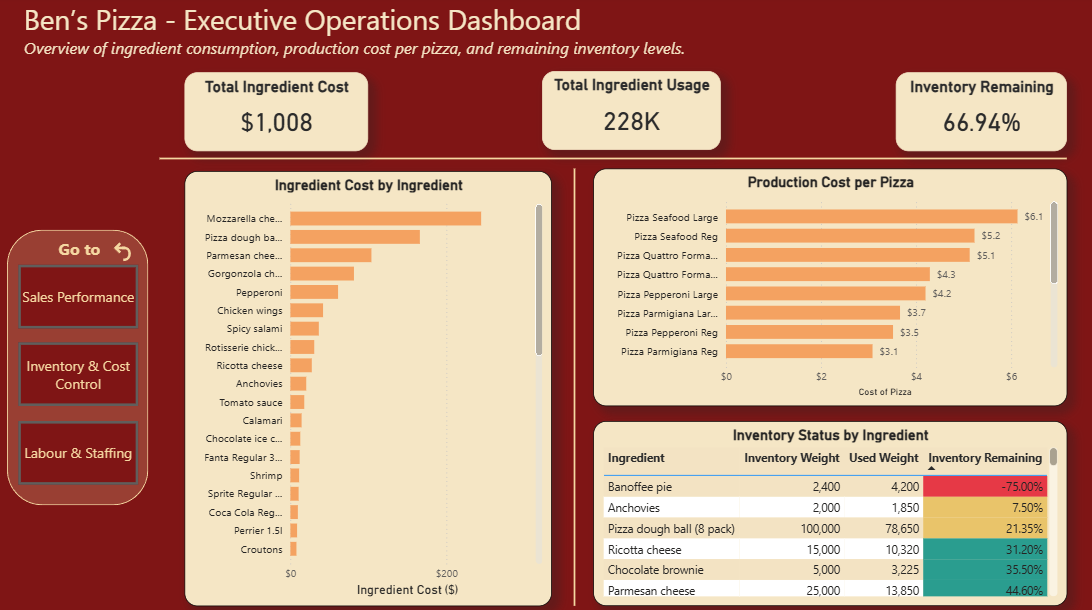

The page's visual inventory and layout, read from the dashboard file:
{"tool":"powerbi","page":{"name":"Inventory & Cost Control","canvas":[1280,720],"ordinal":2},"visuals":[{"type":"clusteredBarChart","title":"Ingredient Cost by Ingredient","fields":{"Category":["stock1.ing_name"],"Y":["stock1.Total Cost"]},"box":[216.4,202,424.2,502.1],"z":0},{"type":"card","title":"Total Ingredient Cost","fields":{"Values":["stock1.Total Cost"]},"box":[216.4,88,212.1,90.9],"z":1000},{"type":"clusteredBarChart","title":"Production Cost per Pizza","fields":{"Category":["stock1.item_name"],"Y":["stock1.Cost of Pizza"]},"box":[688.2,199.1,546.8,274.1],"z":2000},{"type":"tableEx","title":"Inventory Status by Ingredient","fields":{"Values":["remaining_inventory.ing_name","remaining_inventory.total_inv_weight","remaining_inventory.ordered_weight","remaining_inventory.Percent Remaining"]},"box":[688.2,490.5,546.8,213.5],"z":3000},{"type":"card","title":"Total Ingredient Usage","fields":{"Values":["remaining_inventory.Total Ordered Weight"]},"box":[629,86.6,206.3,90.9],"z":4000},{"type":"card","title":"Inventory Remaining","fields":{"Values":["stock1.Stock Remaining %"]},"box":[1037.3,88,197.7,90.9],"z":5000},{"type":"shape","box":[12,270,163,318],"z":6000},{"type":"actionButton","title":"Ingredient Usage & Cost Control","box":[25,310,138.5,73.6],"z":7000},{"type":"actionButton","title":"Ingredient Usage & Cost Control","box":[25,490,138.5,73.6],"z":8000},{"type":"actionButton","title":"Ingredient Usage & Cost Control","box":[25,400,138.5,73.6],"z":9000},{"type":"shape","box":[187.6,173.1,1047.4,28.9],"z":10000},{"type":"shape","box":[640.6,199.1,51.9,505],"z":11000},{"type":"textbox","box":[26,0,833.9,95.2],"z":12000},{"type":"textbox","box":[43.3,274.1,103.9,40.4],"z":13000},{"type":"actionButton","box":[129.8,279.9,34.6,30.3],"z":14000}]}

Visuals, with their boxes in screenshot pixels (x1, y1, x2, y2), scaled from the page's 1280x720 canvas onto the 1092x610 screenshot:
"Ingredient Cost by Ingredient" clusteredBarChart: {"x1": 185, "y1": 171, "x2": 547, "y2": 597}
"Total Ingredient Cost" card: {"x1": 185, "y1": 75, "x2": 366, "y2": 152}
"Production Cost per Pizza" clusteredBarChart: {"x1": 587, "y1": 169, "x2": 1054, "y2": 401}
"Inventory Status by Ingredient" tableEx: {"x1": 587, "y1": 416, "x2": 1054, "y2": 596}
"Total Ingredient Usage" card: {"x1": 537, "y1": 73, "x2": 713, "y2": 150}
"Inventory Remaining" card: {"x1": 885, "y1": 75, "x2": 1054, "y2": 152}
shape: {"x1": 10, "y1": 229, "x2": 149, "y2": 498}
"Ingredient Usage & Cost Control" actionButton: {"x1": 21, "y1": 263, "x2": 139, "y2": 325}
"Ingredient Usage & Cost Control" actionButton: {"x1": 21, "y1": 415, "x2": 139, "y2": 477}
"Ingredient Usage & Cost Control" actionButton: {"x1": 21, "y1": 339, "x2": 139, "y2": 401}
shape: {"x1": 160, "y1": 147, "x2": 1054, "y2": 171}
shape: {"x1": 547, "y1": 169, "x2": 591, "y2": 597}
textbox: {"x1": 22, "y1": 0, "x2": 734, "y2": 81}
textbox: {"x1": 37, "y1": 232, "x2": 126, "y2": 266}
actionButton: {"x1": 111, "y1": 237, "x2": 140, "y2": 263}
